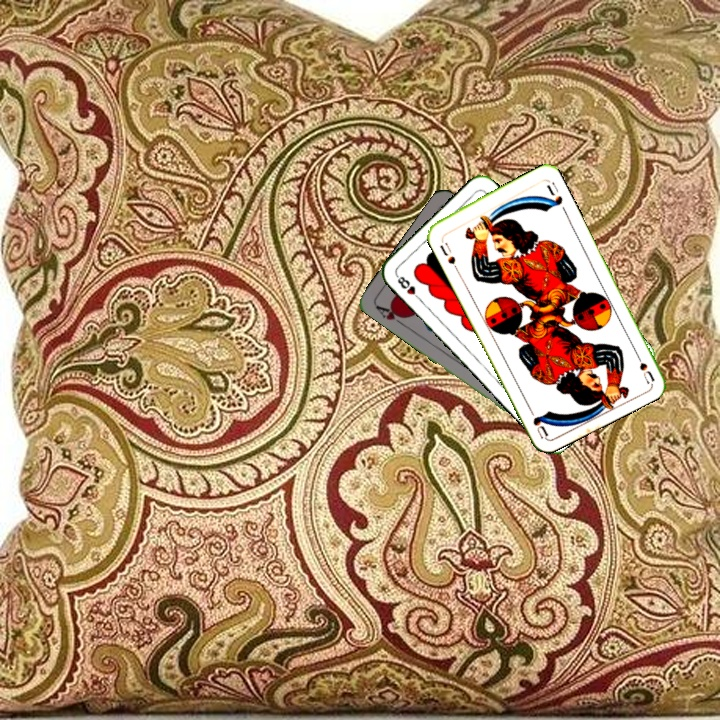H8: (392, 271, 424, 304)
HA: (372, 301, 409, 329)
SU: (630, 346, 656, 385), (437, 232, 458, 267)
